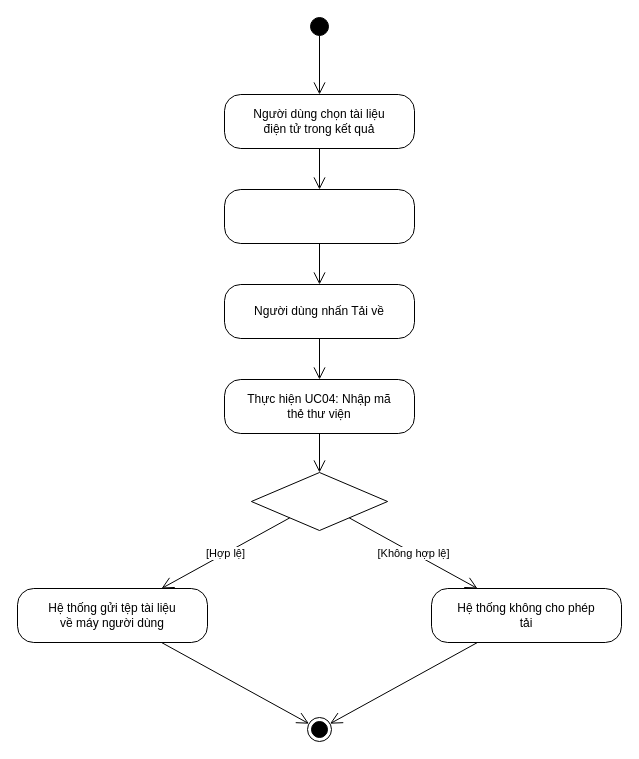
Some shapes in this 639 by 759 pixel diagram are drawn without their labels. Each missing label, with the box of its shape:
Hệ thống hiển thị thông tin chi tiết tài liệu: (224, 188, 414, 244)
Mã thẻ hợp lệ?: (250, 472, 388, 530)
